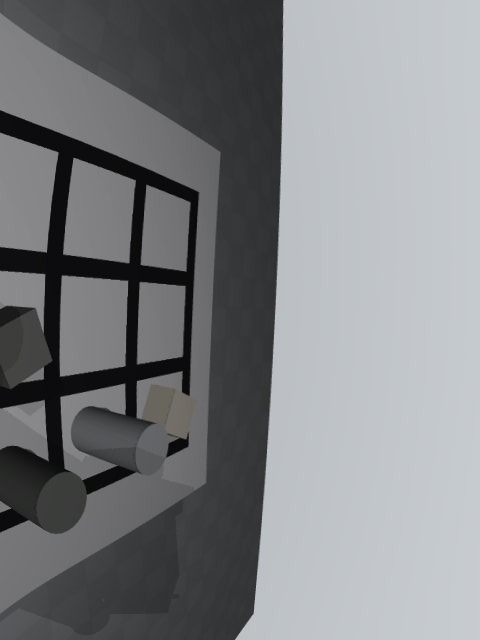can: (71, 406, 169, 476)
cube: (0, 305, 53, 389)
cylinder: (0, 445, 87, 534)
foam: (141, 384, 197, 439)
